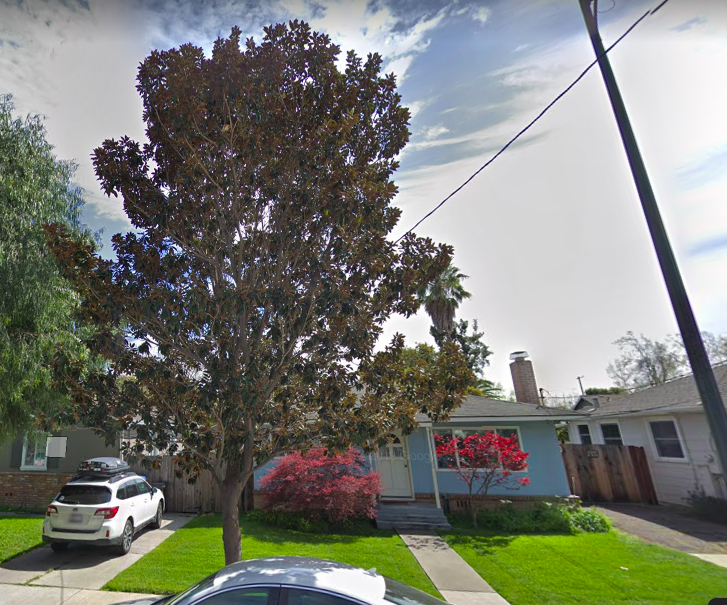tree: (39, 17, 478, 562)
